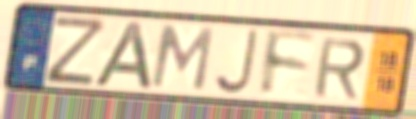A: (90, 18, 156, 92)
F: (259, 27, 319, 101)
J: (211, 27, 261, 97)
M: (147, 22, 216, 94)
R: (310, 36, 368, 101)
Z: (43, 13, 111, 88)
